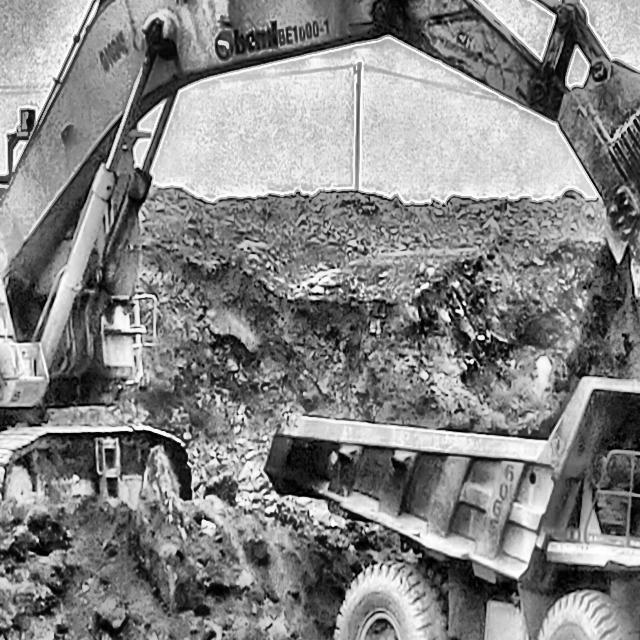dump_truck: (264, 378, 640, 640)
excavator: (0, 0, 640, 523)
